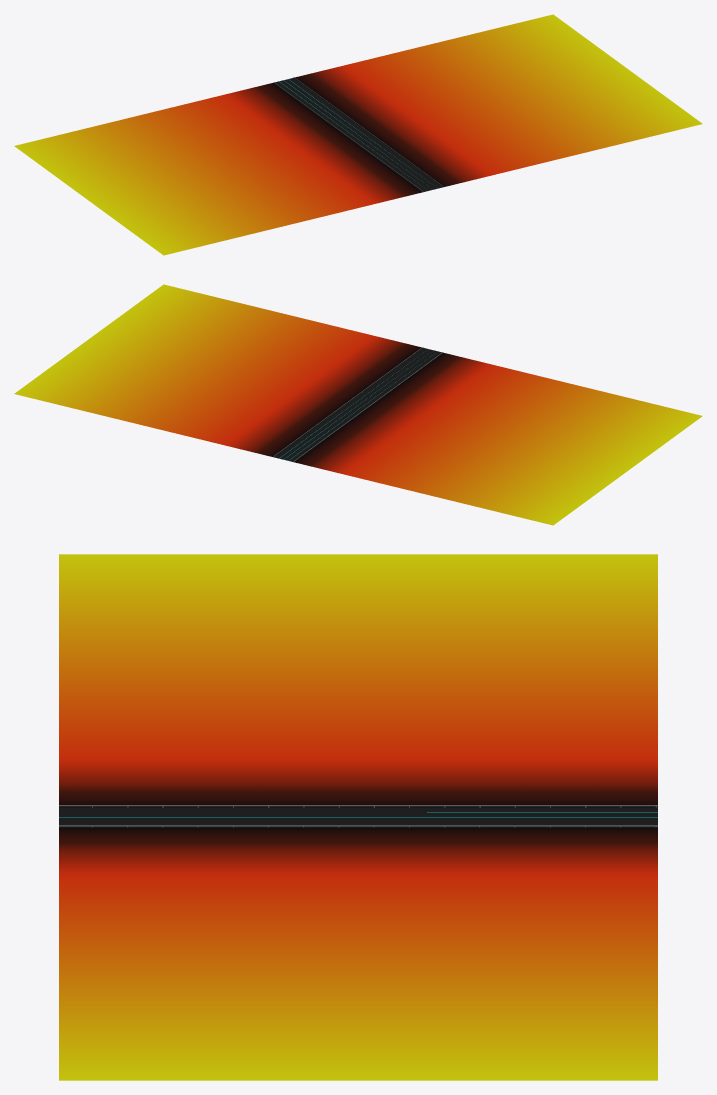
File: Tile_Plain_main.fbx
3 views of the same model, one above another, from view 1: azimuth 30°, elevation 25°; view 2: azimuth 150°, elevation 25°; view 3: azimuth 270°, elevation 25° (orthographic). The views are drawn at different scales.
Parts seen in each view (by area): view 1: Plane; view 2: Plane; view 3: Plane.
Boxes of the visible parts, x1,y1,x2,y2 form: Plane: (14,14,702,255); Plane: (14,284,702,525); Plane: (59,554,657,1080).
Bounding box in the file's own units: 1040 × 2.2 × 500.
